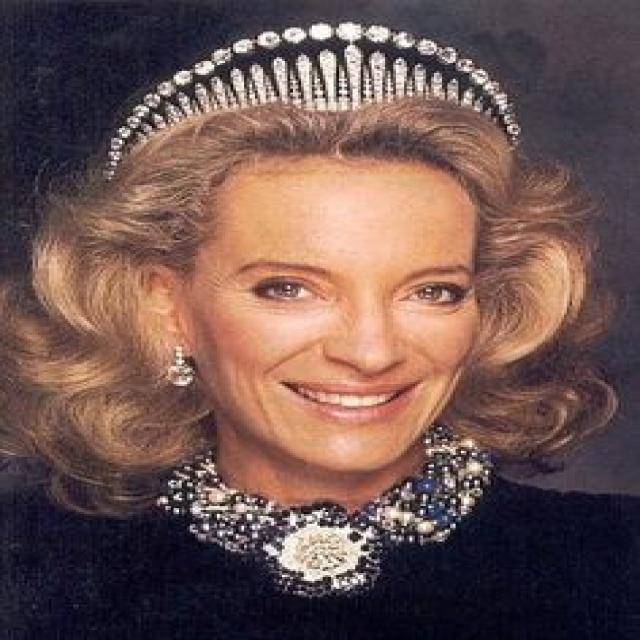Earring: (152, 336, 204, 396)
